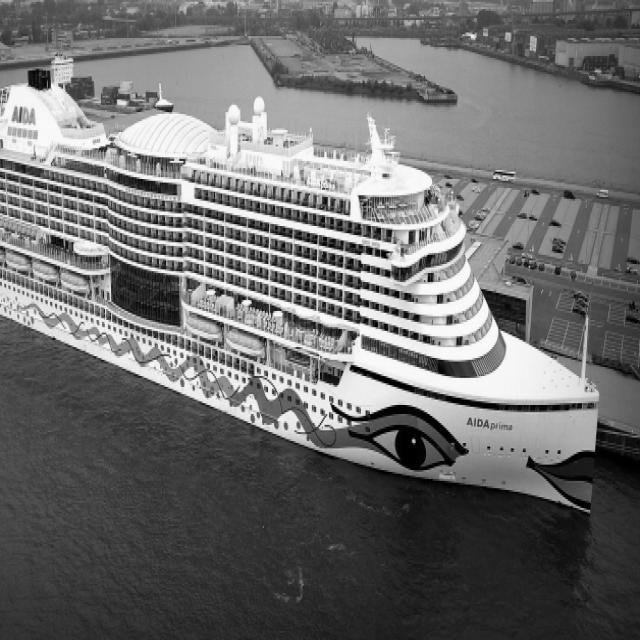cruises: (1, 57, 602, 532)
